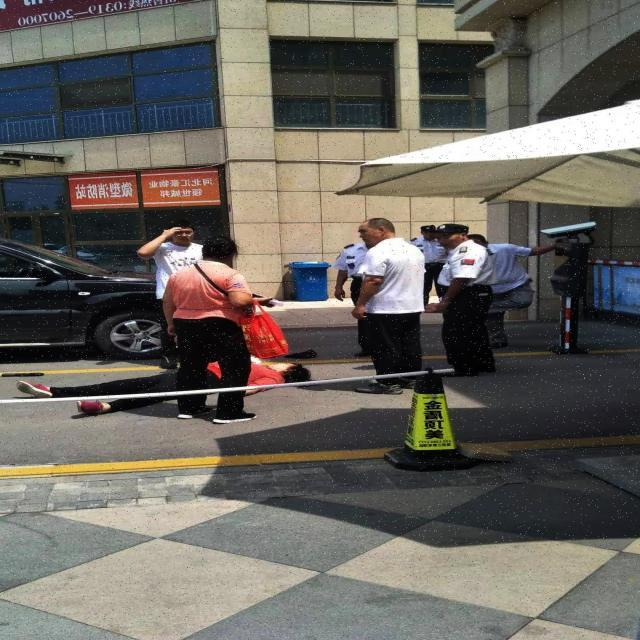fall: (22, 359, 307, 415)
